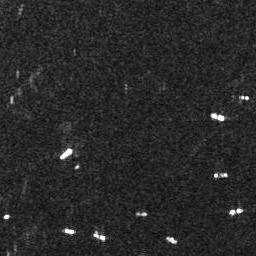ship: (58, 146, 75, 160), (209, 112, 225, 122), (64, 226, 76, 236), (93, 231, 105, 241), (165, 235, 178, 244), (229, 207, 243, 215), (239, 93, 250, 102), (213, 172, 229, 178), (136, 210, 148, 218)
